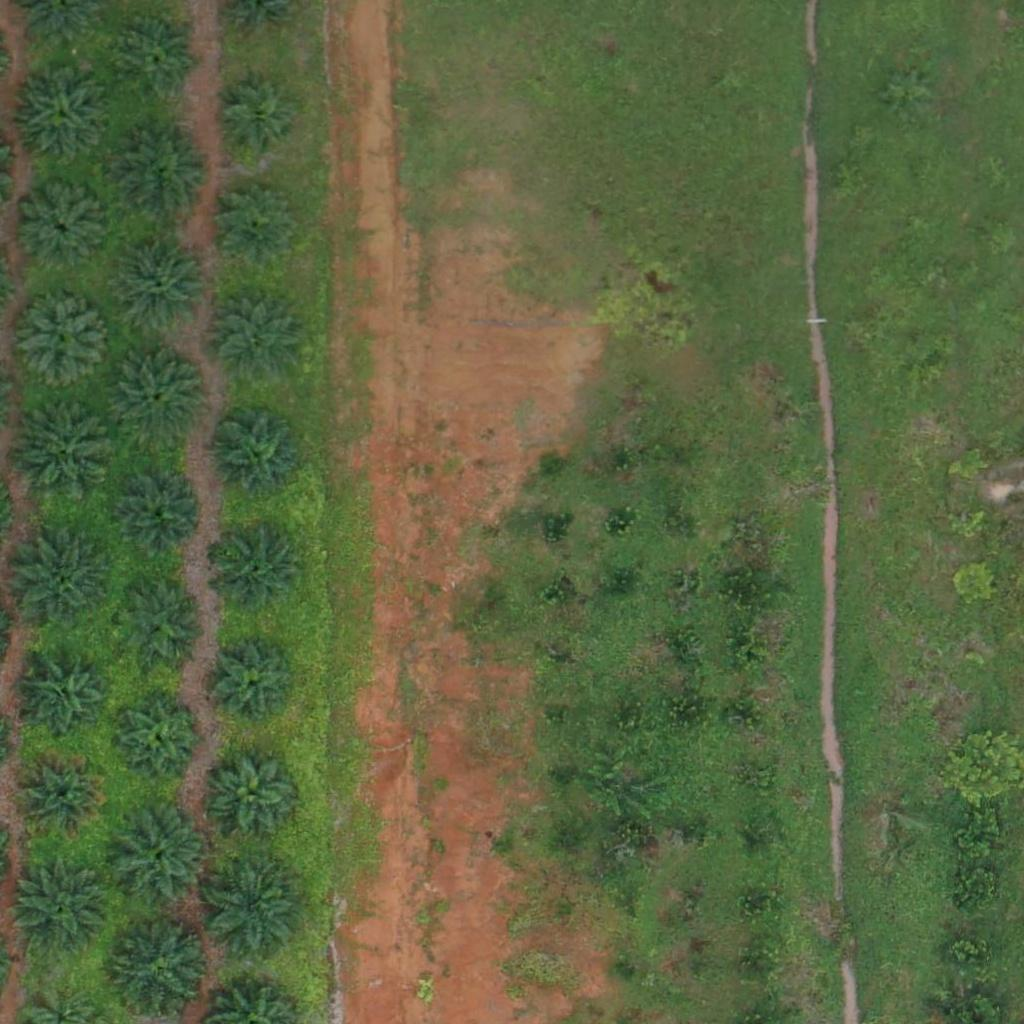Kelapa_Sawit: (13, 290, 113, 391), (12, 401, 112, 502), (13, 534, 113, 635), (115, 235, 215, 336), (108, 346, 208, 447), (207, 405, 307, 506), (111, 124, 211, 224), (11, 63, 111, 163), (202, 855, 302, 955), (107, 807, 207, 907), (109, 921, 209, 1021), (12, 859, 112, 959), (19, 186, 107, 275), (213, 79, 301, 167), (116, 16, 204, 104), (113, 470, 201, 558), (215, 526, 303, 614), (211, 640, 299, 728), (212, 750, 300, 838), (117, 582, 204, 670), (213, 180, 300, 268), (213, 295, 300, 383), (22, 654, 109, 742), (114, 693, 201, 781), (18, 751, 105, 839)
